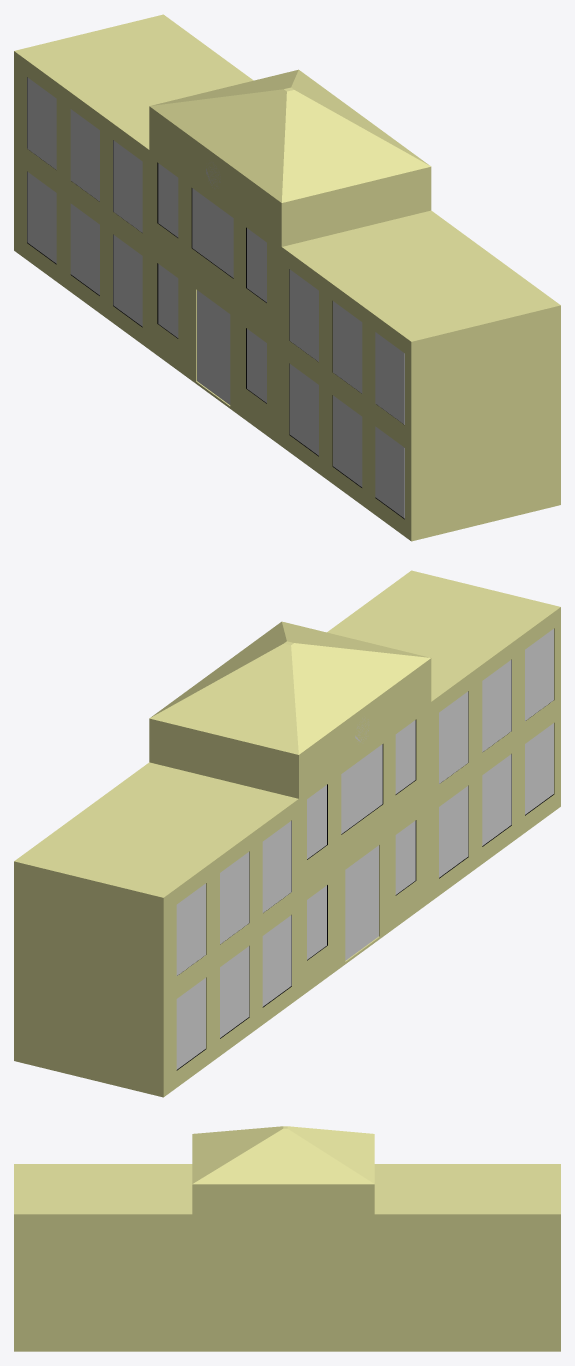
The model's file is Escuela.fbx.
3 views of the same model, one above another, from view 1: azimuth 30°, elevation 25°; view 2: azimuth 150°, elevation 25°; view 3: azimuth 270°, elevation 25° (orthographic). The views are drawn at different scales.
Parts seen in each view (by area): view 1: Cube.017, Cube.023, Cube.018; view 2: Cube.017, Cube.023, Cube.018; view 3: Cube.017.
Part boxes in pixels (x1,y1,x2,y2): Cube.017: (14,14,560,541); Cube.023: (27,77,404,518); Cube.018: (197,290,230,404); Cube.017: (14,570,560,1097); Cube.023: (176,629,553,1069); Cube.018: (345,845,378,960); Cube.017: (14,1126,560,1351).
Size of the model in its own units: 18546 by 34288 by 85351.
